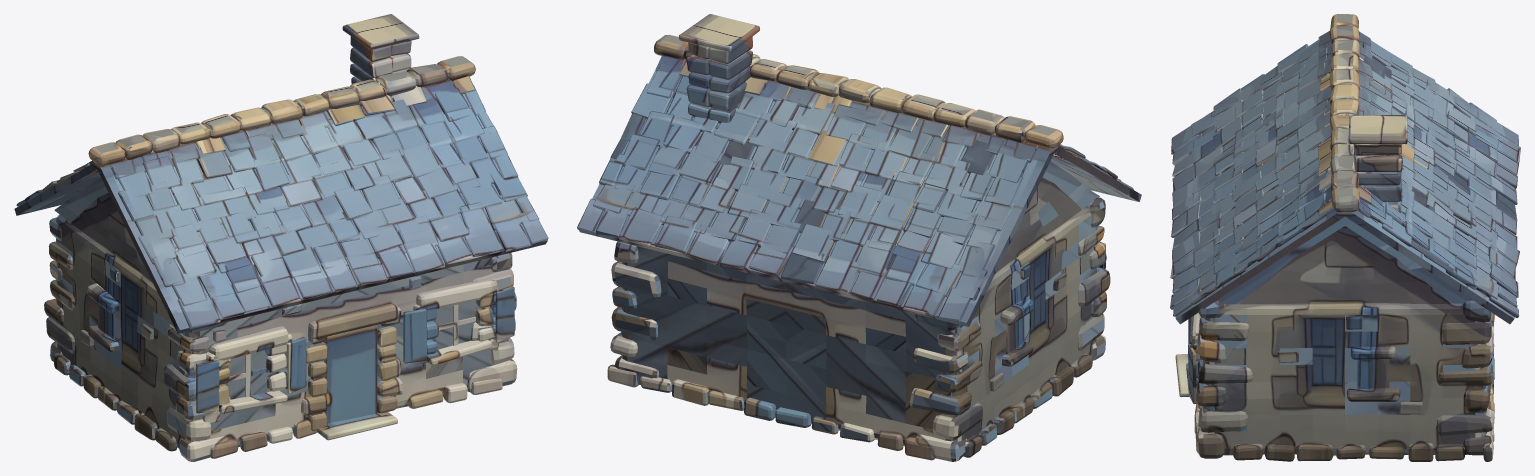
The model's file is maison_3d.glb.
3 renders of one model, left to right at view 1: azimuth 30°, elevation 25°; view 2: azimuth 150°, elevation 25°; view 3: azimuth 270°, elevation 25°, orthographic. The views are drawn at different scales.
Parts seen in each view (by area): view 1: maison_3d; view 2: maison_3d; view 3: maison_3d.
Boxes of the visible parts, <box> form: maison_3d: <box>14,14,548,461</box>; maison_3d: <box>577,14,1141,461</box>; maison_3d: <box>1170,14,1520,461</box>.
Size of the model in its own units: 7.59 by 5.84 by 5.95.
2 materials, 2 textured.
